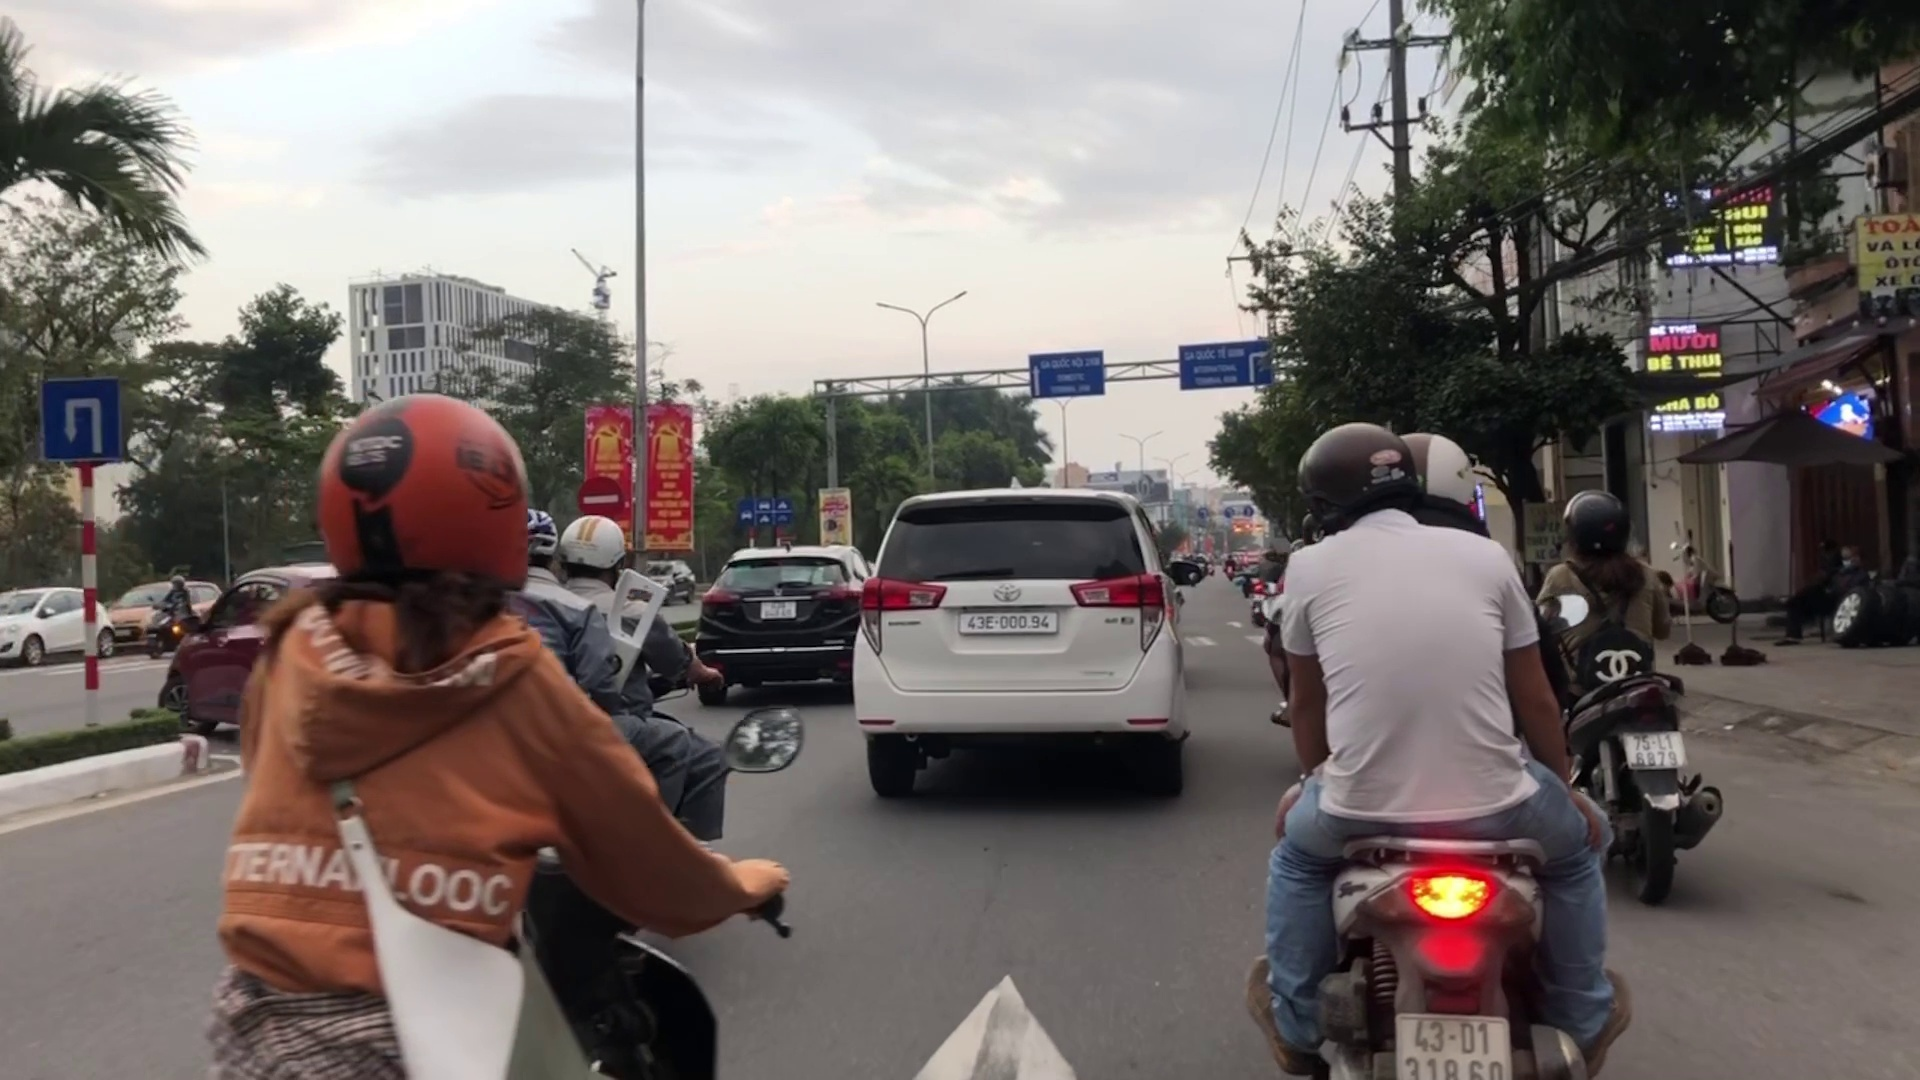Bien khac: (38, 375, 124, 462)
Cam di nguoc chieu: (582, 475, 624, 518)
